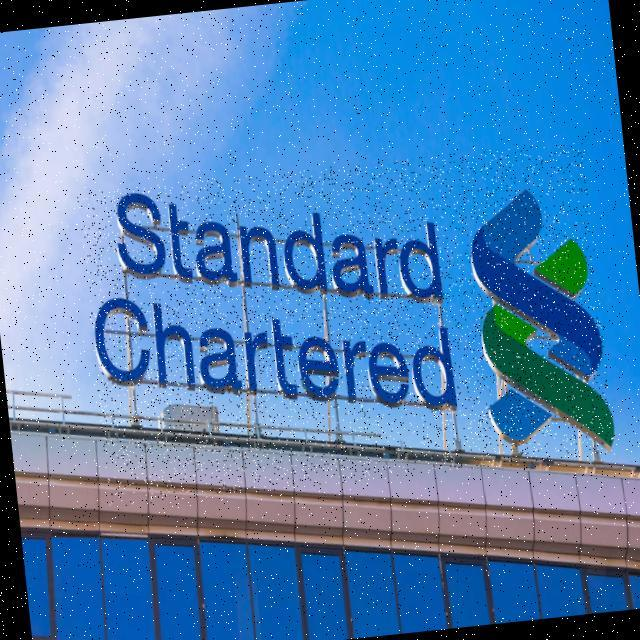Standard Chartered: (77, 140, 616, 508)
